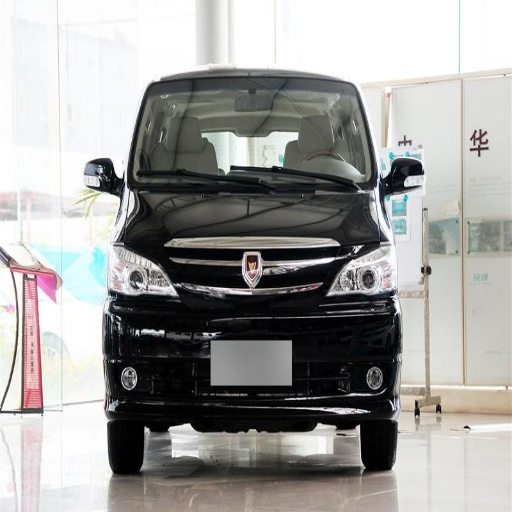front_bumper: (106, 248, 400, 417)
front_right_light: (108, 243, 170, 294)
hood: (122, 172, 381, 255)
left_mirror: (382, 157, 423, 195)
